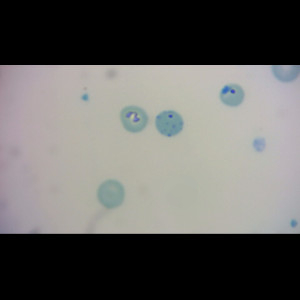aggregate reticulocyte: (154, 110, 185, 137)
erythrocyte: (96, 179, 126, 210), (118, 105, 150, 134), (220, 84, 246, 108)
